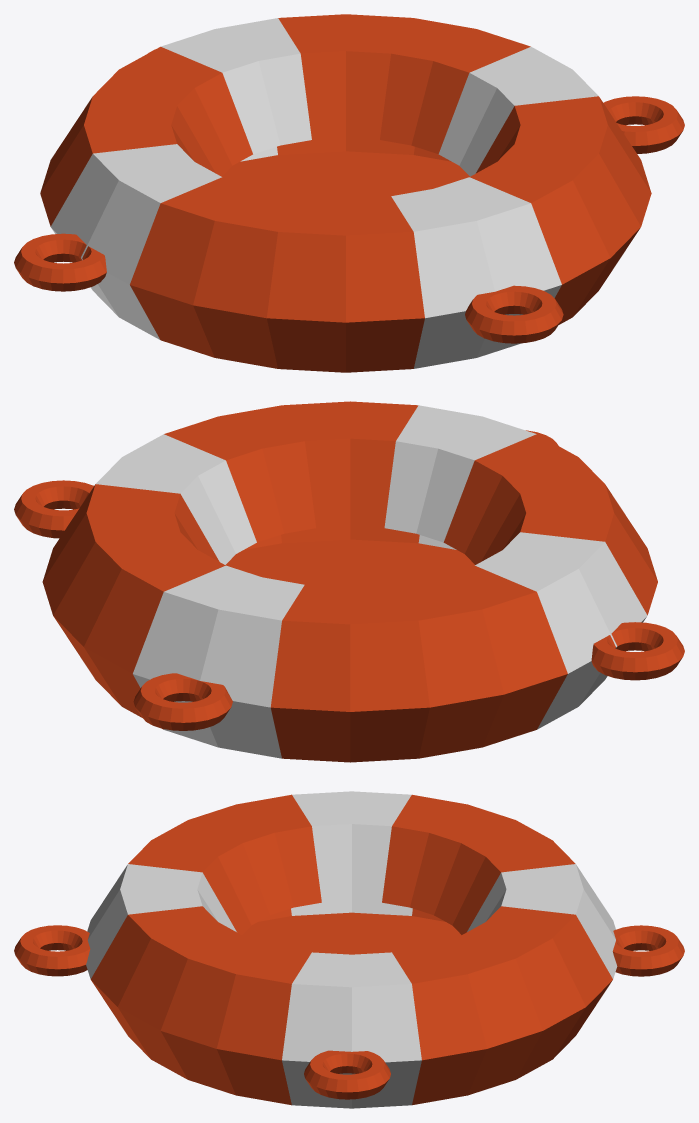
The model's file is boia.fbx.
3 views of the same model, one above another, from view 1: azimuth 30°, elevation 25°; view 2: azimuth 150°, elevation 25°; view 3: azimuth 270°, elevation 25° (orthographic). The views are drawn at different scales.
Visible parts, largest first — view 1: Torus, Torus.001, Torus.004, Torus.002; view 2: Torus, Torus.003, Torus.004, Torus.002; view 3: Torus, Torus.002, Torus.001, Torus.003.
Boxes of the visible parts, box(x1,y1,x2,y2) form: Torus: box(40, 14, 651, 372); Torus.001: box(465, 285, 563, 343); Torus.004: box(14, 233, 106, 291); Torus.002: box(603, 96, 684, 153); Torus: box(42, 401, 657, 762); Torus.003: box(133, 673, 232, 730); Torus.004: box(591, 622, 684, 680); Torus.002: box(14, 480, 93, 538); Torus: box(86, 791, 617, 1108); Torus.002: box(304, 1050, 390, 1099); Torus.001: box(14, 925, 90, 976); Torus.003: box(612, 925, 684, 976).
Size of the model in its own units: 347 by 69.28 by 347.
